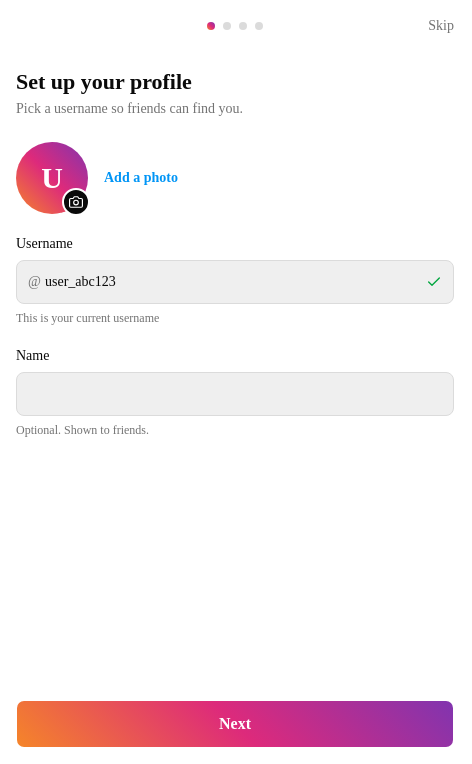
Test: onboarding › interest chips show a check and the gradient border when picked
Click the button "Skip" at (441, 26), box [428, 16, 454, 36]
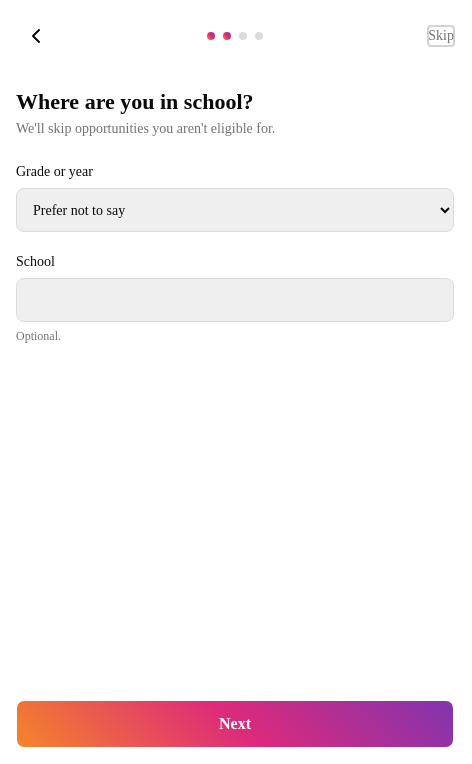
Click the button "Skip" at (441, 36), box [428, 26, 454, 46]
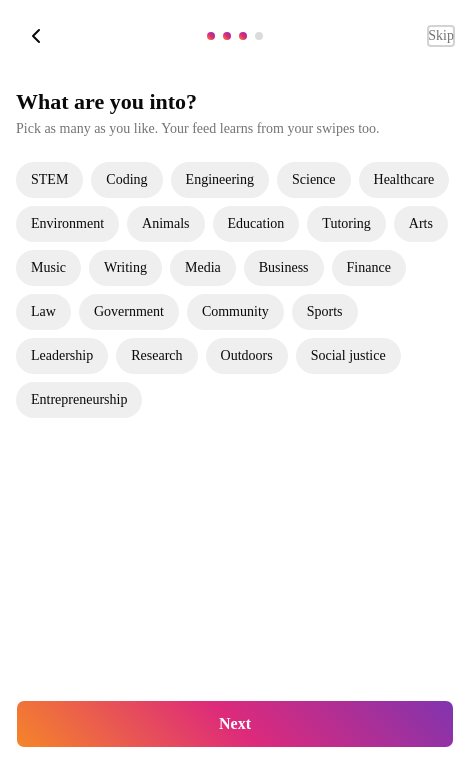
Click the button "Coding" at (127, 180), box [91, 162, 162, 198]
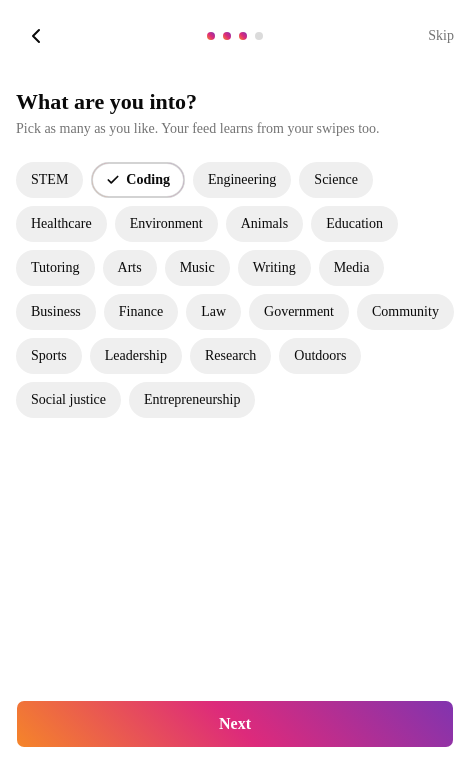
Expected: the icon below "What are you into?" is shown, [106, 173, 120, 187]
